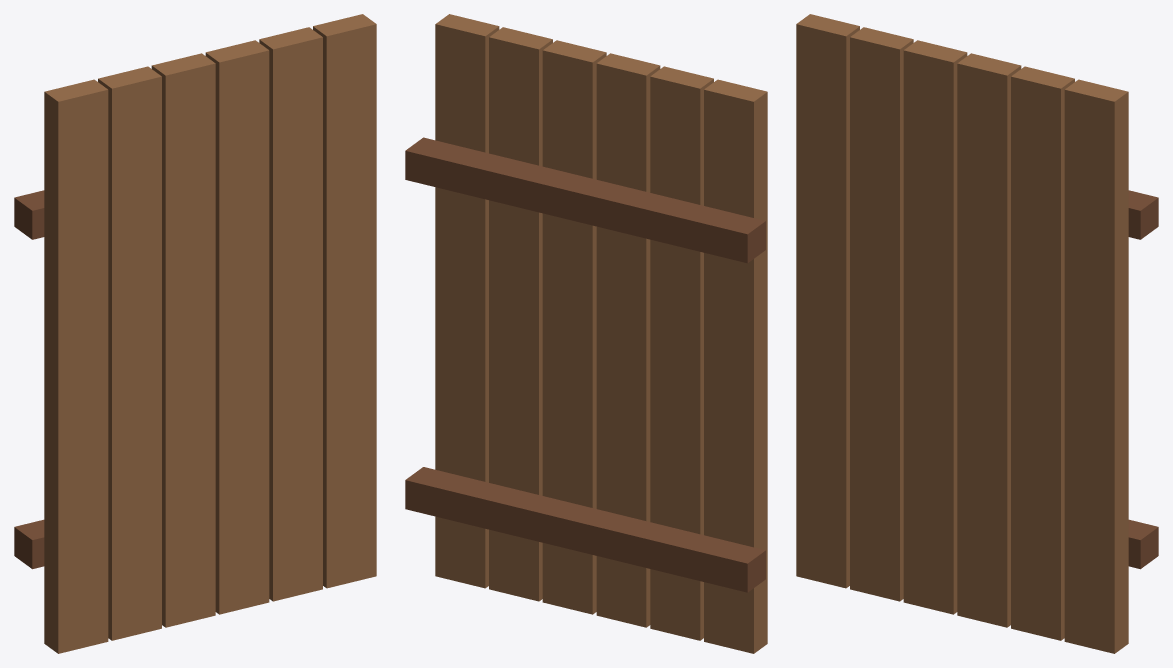
Rendered from west-gate-left-leaf.glb.
3 views of the same model, side by side, from view 1: azimuth 30°, elevation 25°; view 2: azimuth 150°, elevation 25°; view 3: azimuth 330°, elevation 25° (orthographic).
Visible parts, largest first — view 1: B01, B04, B03, B02, B05, B06, R02, R01; view 2: B01, B03, B04, B06, B02, B05, R01, R02; view 3: B06, B03, B04, B05, B01, B02, R02, R01.
Boxes of the visible parts, left/top/right/bottom form: B01: left=44, top=79, right=108, bottom=653; B04: left=205, top=40, right=269, bottom=614; B03: left=151, top=53, right=215, bottom=627; B02: left=98, top=66, right=161, bottom=640; B05: left=259, top=27, right=322, bottom=601; B06: left=313, top=14, right=376, bottom=588; R02: left=14, top=190, right=44, bottom=239; R01: left=14, top=519, right=44, bottom=569; B01: left=704, top=79, right=767, bottom=653; B03: left=596, top=53, right=660, bottom=627; B04: left=542, top=40, right=606, bottom=614; B06: left=435, top=14, right=499, bottom=588; B02: left=650, top=66, right=713, bottom=640; B05: left=489, top=27, right=552, bottom=601; R01: left=405, top=467, right=765, bottom=592; R02: left=405, top=137, right=765, bottom=263; B06: left=1064, top=79, right=1128, bottom=653; B03: left=903, top=40, right=967, bottom=614; B04: left=957, top=53, right=1021, bottom=627; B05: left=1011, top=66, right=1074, bottom=640; B01: left=796, top=14, right=859, bottom=588; B02: left=850, top=27, right=913, bottom=601; R02: left=1128, top=190, right=1158, bottom=239; R01: left=1128, top=519, right=1158, bottom=569.
Size of the model in its own units: 1.85 by 2.85 by 0.3.
